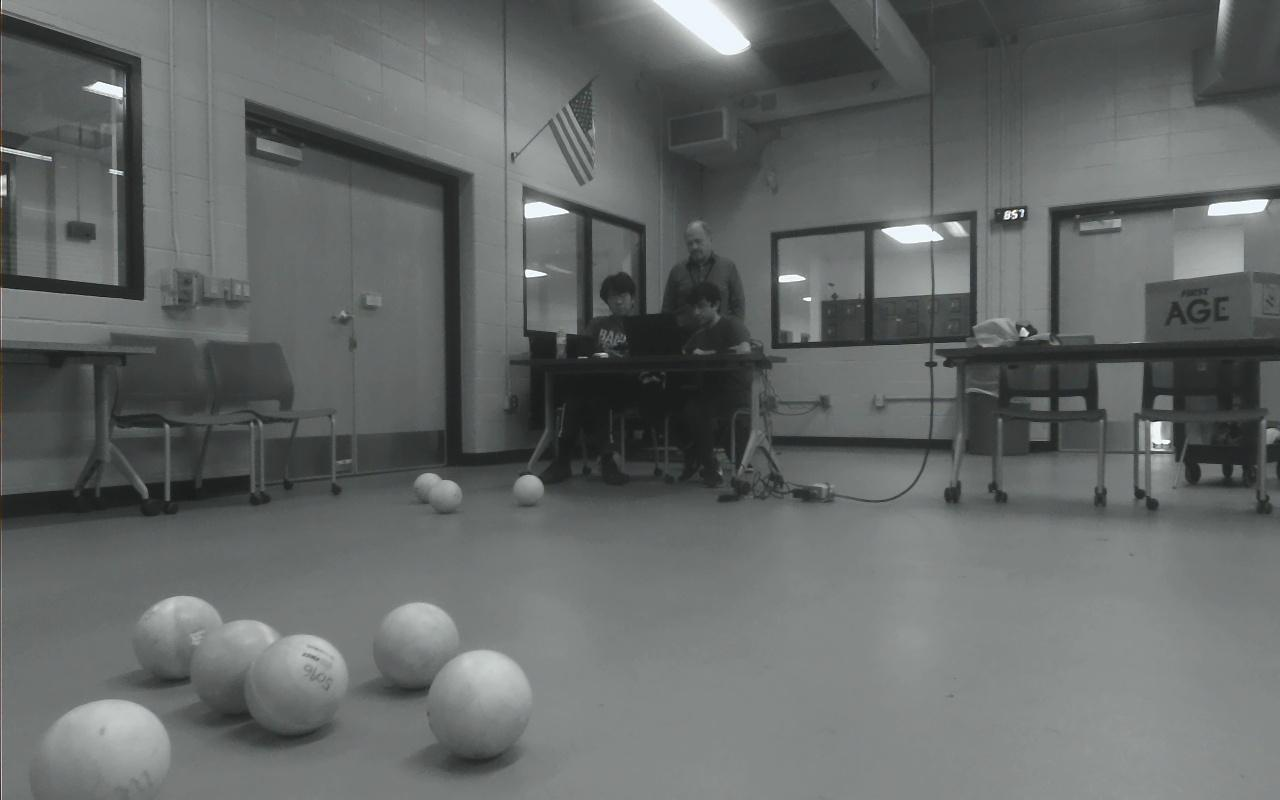Fuel: (31, 698, 172, 800), (426, 650, 534, 760), (243, 633, 349, 736), (189, 620, 282, 714), (372, 601, 460, 689), (133, 594, 223, 680), (428, 480, 463, 514), (512, 474, 545, 506), (413, 472, 440, 502)
